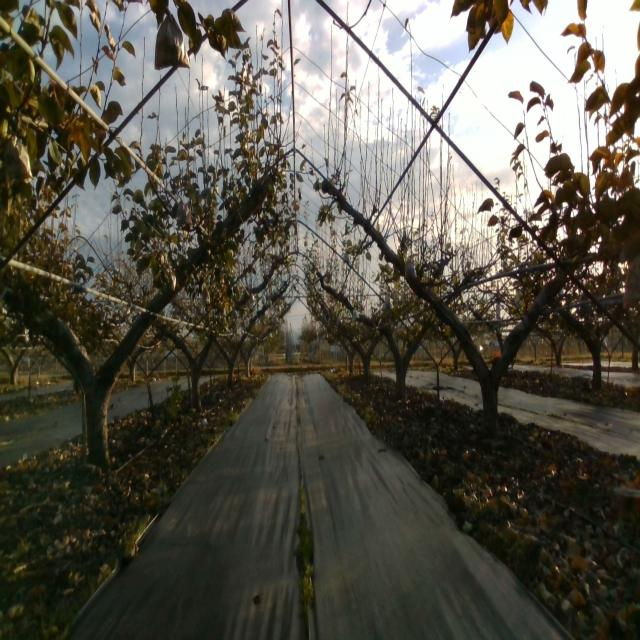pearbags: (154, 6, 190, 70), (0, 134, 34, 184), (622, 254, 640, 312), (176, 198, 192, 226), (405, 256, 415, 280)
